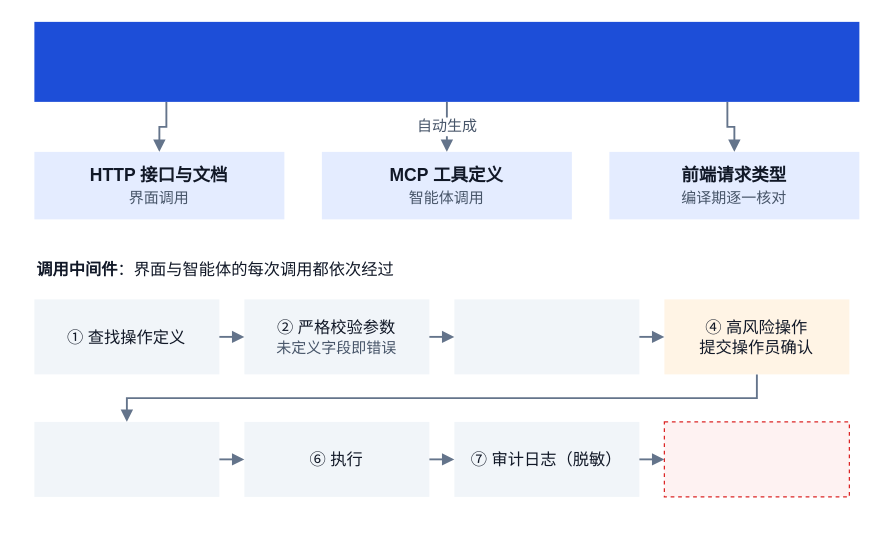
Image size: 893x555. Some labels were removed from this diagram. The shapes that lost their labels are listed below. From the top down, each one's box as (x1, y1, x2, y2) in pixels, then its label:
(34, 21, 859, 101): 统一操作注册表：每个操作只定义一次 名称 · 请求/返回模型 · 所需能力 · 风险等级 · 幂等类型 · 人工确认 · 工作模式
(454, 299, 639, 374): ③ 按调用方能力授权
(34, 421, 219, 496): ⑤ 按请求标识幂等
(663, 421, 849, 497): ⑧ 物理动作超时 → 结果未知，禁止重试
